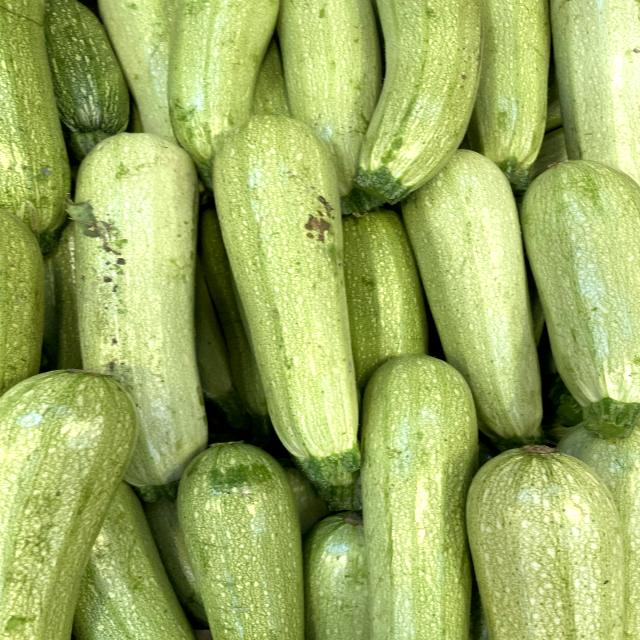zucchini: (38, 129, 218, 500), (204, 115, 372, 491), (518, 154, 640, 446)
